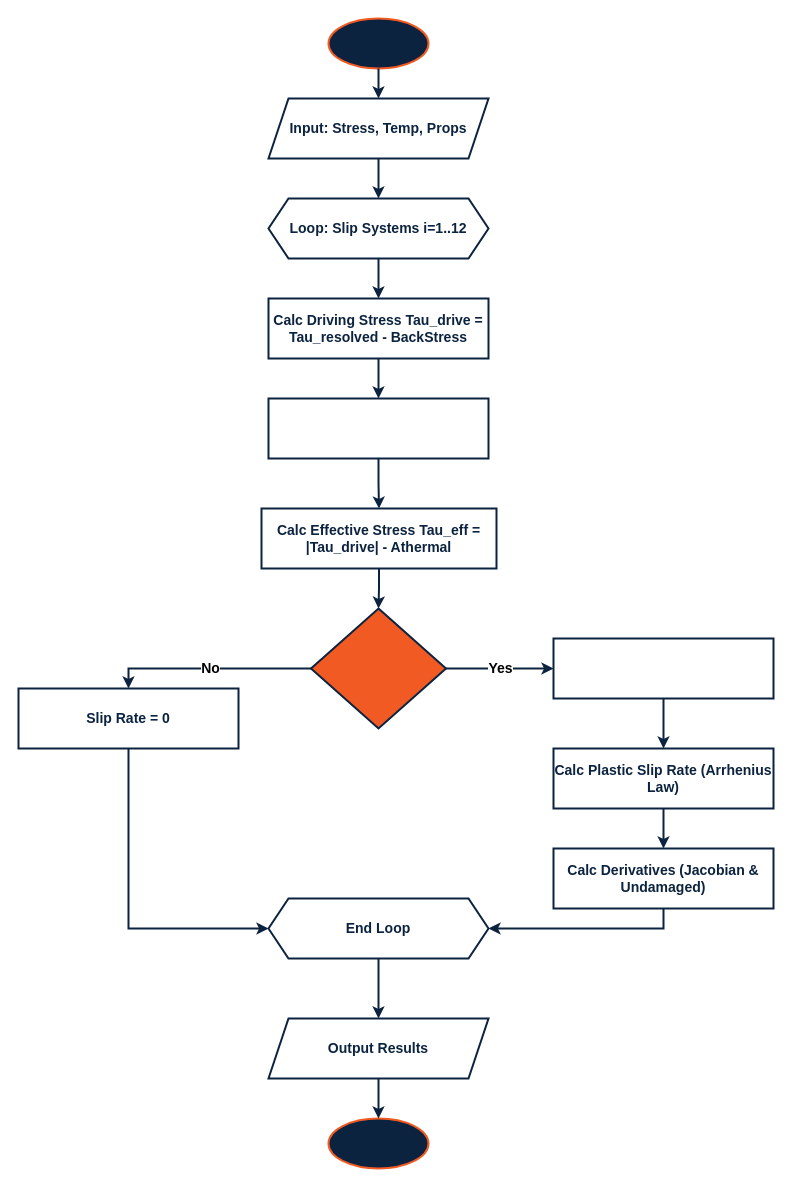
Image size: 791x1186. Some labels were removed from this diagram. Here are the shapes that lost their labels. From the top down, the centre of each, then its label:
At (x=378, y=43): "Start".
At (x=378, y=428): "Calc Total Resistances (Thermal & Athermal)".
At (x=378, y=668): "Tau_eff > 0?".
At (x=663, y=668): "Calc Stress Ratio x = Tau_eff / Thermal".
At (x=378, y=1143): "End".
